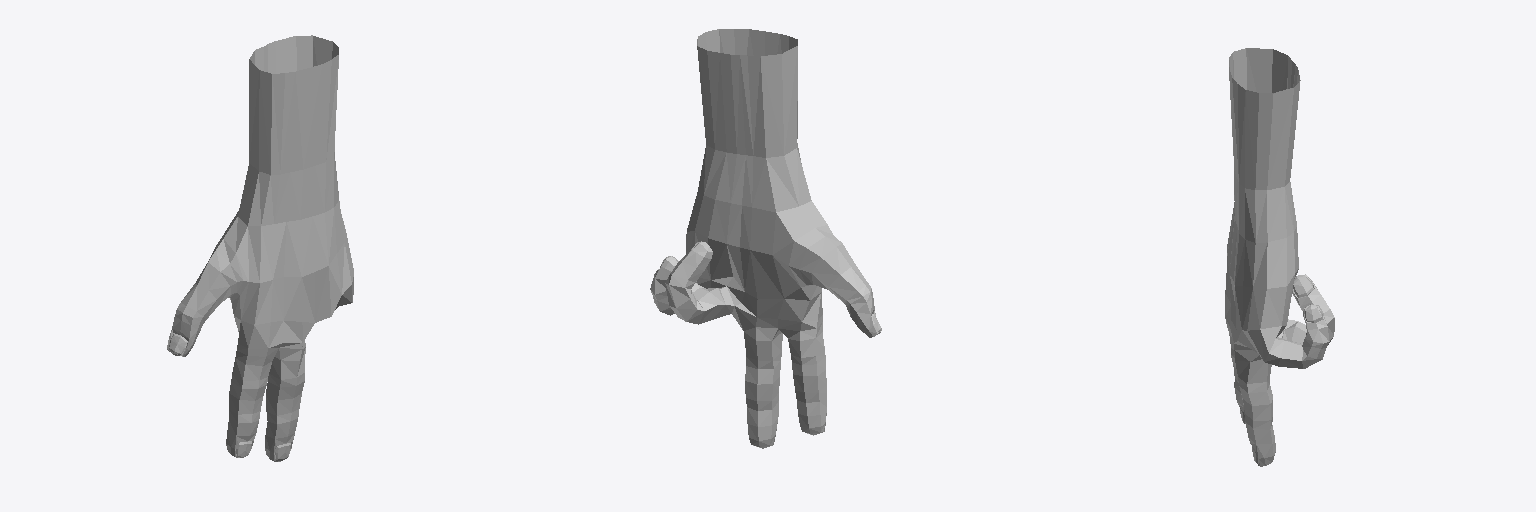
File: handAnimated4_000017.obj
3 renders of one model, left to right at view 1: azimuth 30°, elevation 25°; view 2: azimuth 150°, elevation 25°; view 3: azimuth 270°, elevation 25°, orthographic.
Parts seen in each view (by area): view 1: Cube.000_Cube.017_Detached_Detached; view 2: Cube.000_Cube.017_Detached_Detached; view 3: Cube.000_Cube.017_Detached_Detached.
Part boxes in pixels (x1,y1,x2,y2): Cube.000_Cube.017_Detached_Detached: (167,35,353,461); Cube.000_Cube.017_Detached_Detached: (650,29,881,448); Cube.000_Cube.017_Detached_Detached: (1225,48,1334,466).
Bounding box in the file's own units: 0.6914 × 1.34 × 0.3305.